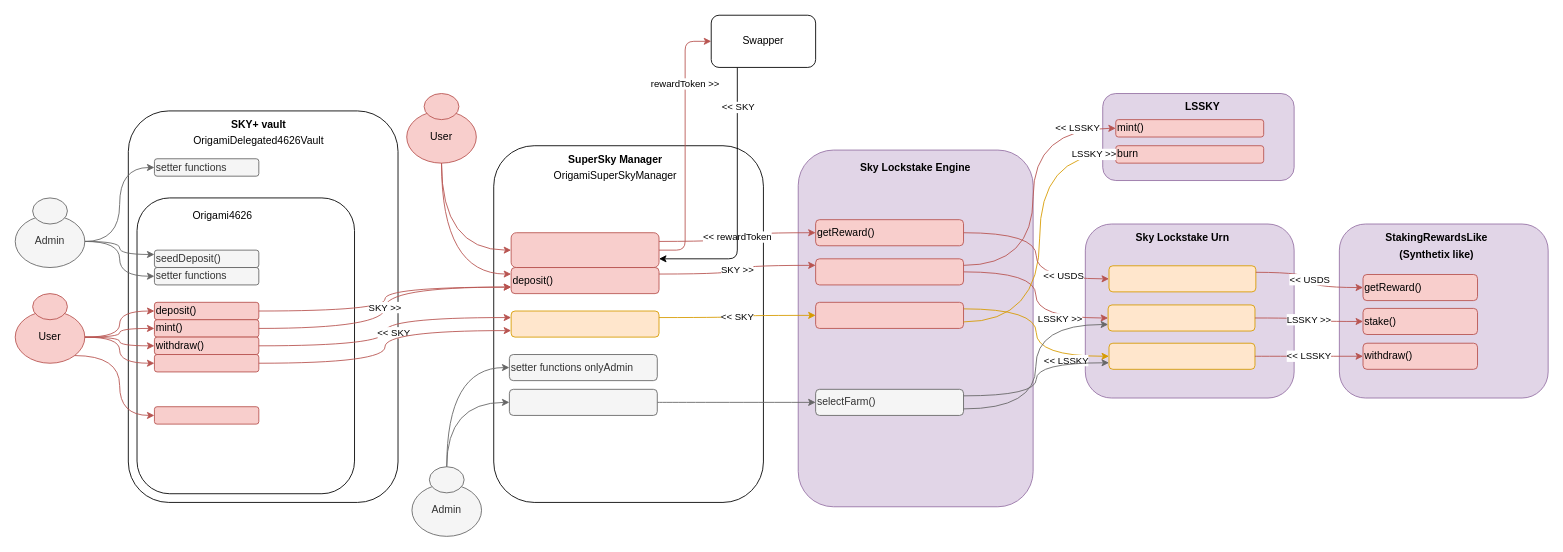
This 1563x552 diagram has some shape labels left out. Each missing label, with the centre of its shape:
"claimFarmRewards()" goes at pixel 584 250.
"ERC20 funtions" goes at pixel 206 415.
"free()" goes at pixel 889 314.
"getReward() only LSE" goes at pixel 1182 278.
"lock()" goes at pixel 889 271.
"redeem()" goes at pixel 206 363.
"stake() only LSE" goes at pixel 1181 317.
"switchFarms() onlyAdmin" goes at pixel 583 401.
"withdraw() only LSE" goes at pixel 1181 355.
"withdraw() onlyVault" goes at pixel 584 323.
